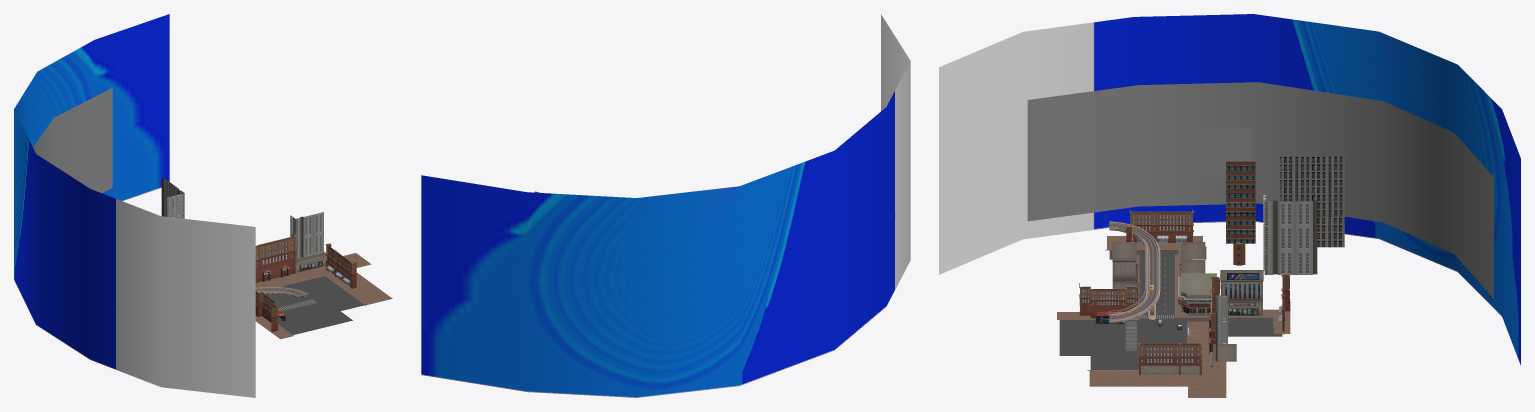
File: MaLuBian_01.fbx
The picture shows the model from 3 angles, left to right: view 1: azimuth 30°, elevation 25°; view 2: azimuth 150°, elevation 25°; view 3: azimuth 270°, elevation 25°; orthographic projection. The views are drawn at different scales.
Parts seen in each view (by area): view 1: Plane001, Plane002, pasted__JianKongJieDao_01_malu_05, lou1, polySurface161; view 2: Plane001; view 3: Plane001, Plane002, polySurface161, pasted__JianKongJieDao_01_malu_05, lou1, Object002, men.
Boxes of the visible parts, left/top/right/bottom form: Plane001: left=14, top=14, right=255, bottom=397; Plane002: left=33, top=88, right=112, bottom=193; pasted__JianKongJieDao_01_malu_05: left=255, top=253, right=392, bottom=339; lou1: left=255, top=233, right=356, bottom=332; polySurface161: left=161, top=177, right=325, bottom=299; Plane001: left=421, top=14, right=910, bottom=397; Plane001: left=939, top=14, right=1520, bottom=365; Plane002: left=1027, top=82, right=1493, bottom=298; polySurface161: left=1108, top=156, right=1344, bottom=366; pasted__JianKongJieDao_01_malu_05: left=1057, top=236, right=1290, bottom=397; lou1: left=1079, top=209, right=1290, bottom=375; Object002: left=1195, top=128, right=1251, bottom=177; men: left=1137, top=235, right=1282, bottom=374.
Bounding box in the file's own units: 68045 × 36043 × 91544.
